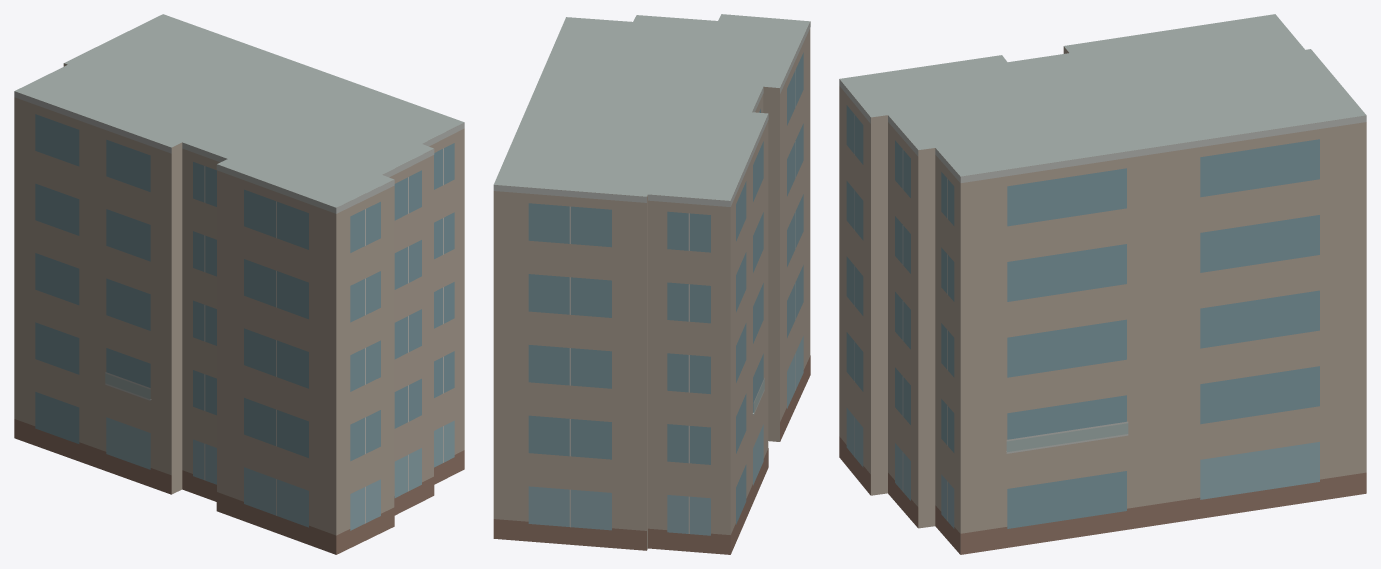
The model's file is survey-upis-32856344.glb.
The picture shows the model from 3 angles, left to right: view 1: azimuth 30°, elevation 25°; view 2: azimuth 150°, elevation 25°; view 3: azimuth 270°, elevation 25°; orthographic projection. The views are drawn at different scales.
Visible parts, largest first — view 1: survey-upis-32856344.tmp; view 2: survey-upis-32856344.tmp; view 3: survey-upis-32856344.tmp.
Boxes of the visible parts, x1,y1,x2,y2 form: survey-upis-32856344.tmp: (14, 14, 464, 554); survey-upis-32856344.tmp: (493, 14, 810, 554); survey-upis-32856344.tmp: (839, 14, 1366, 554).
Size of the model in its own units: 12.82 by 13.9 by 17.57.
